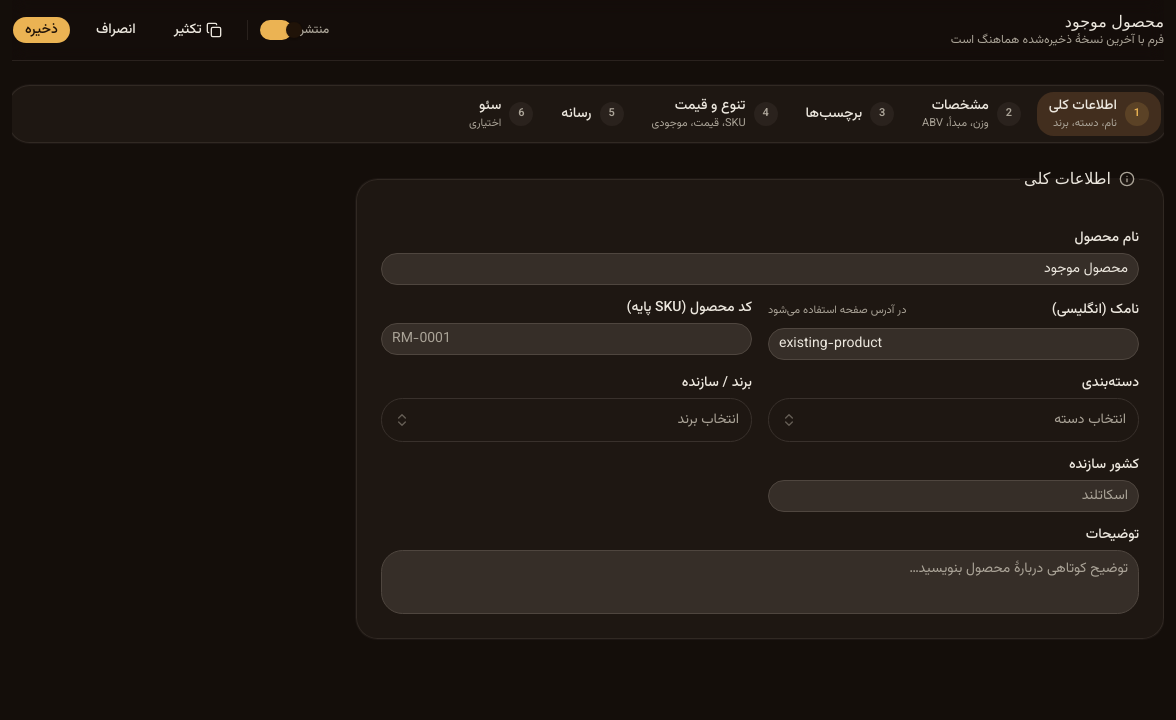
ProductForm production behavior › switches sections through the URL without warning on a dirty form
This screenshot has width=1176, height=720.
Replace the text in the field labelled "نام محصول" with "محصول ویرایش‌شده" at (760, 269), box [381,253,1139,285]
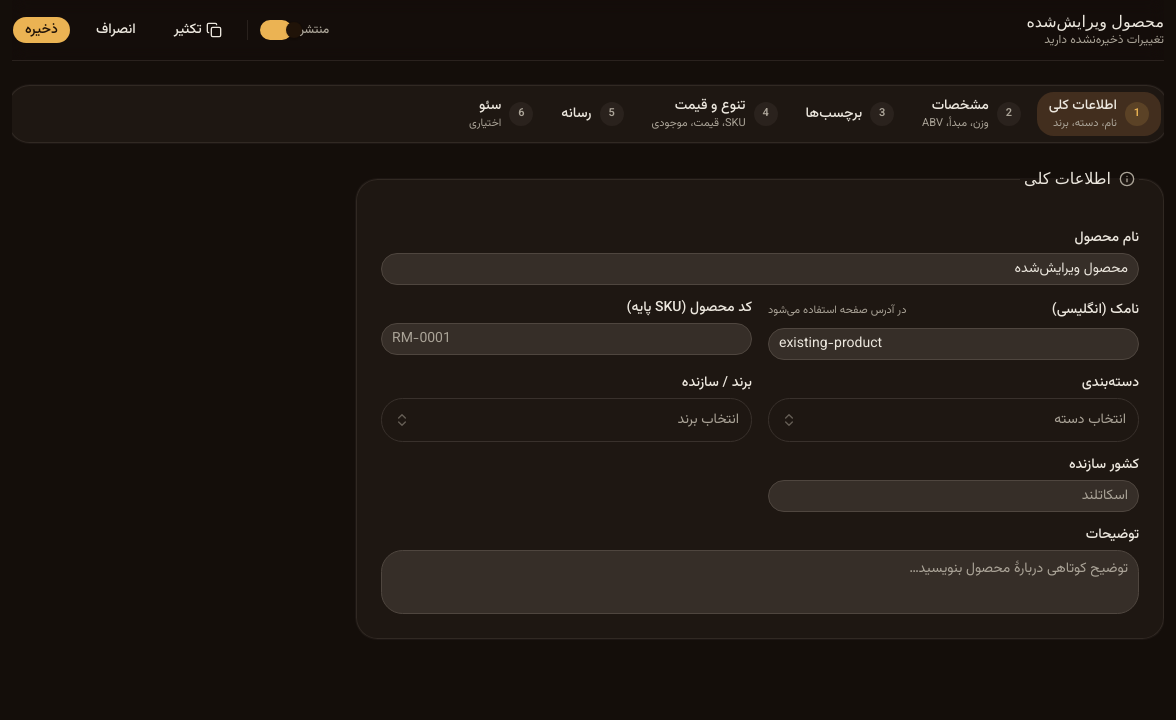
Click the link "6 سئو اختیاری" at (501, 114), box [469,95,533,132]
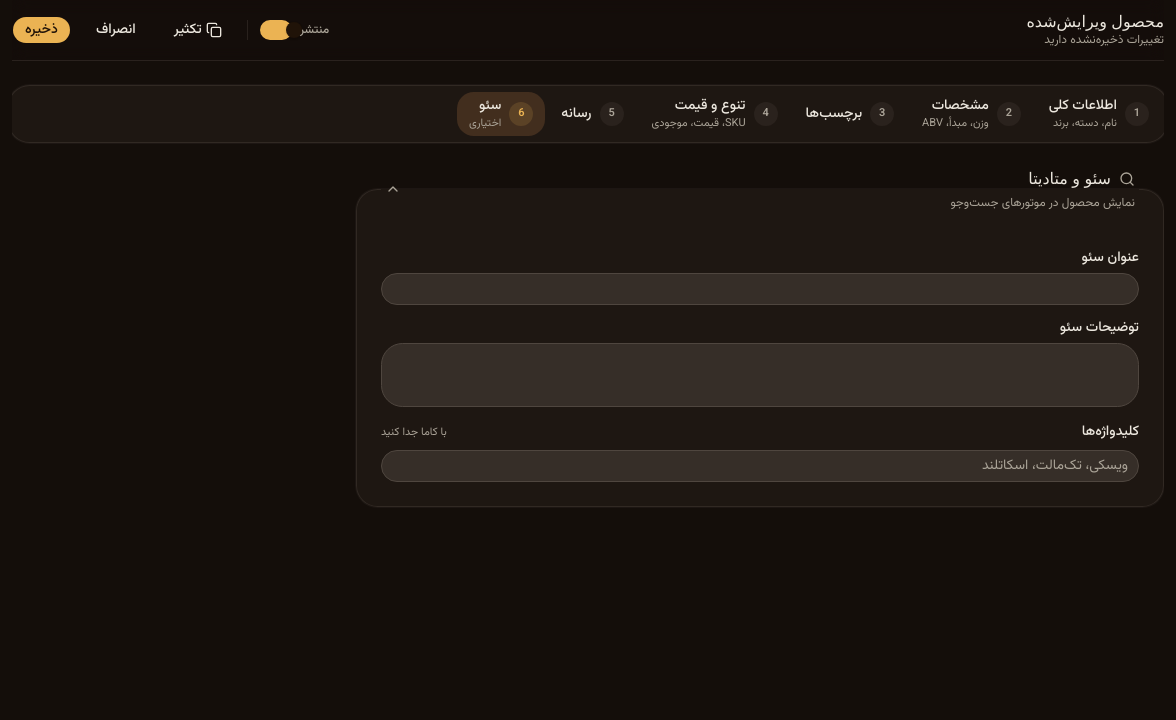
Expected: the field labelled "عنوان سئو" is shown, [381,273,1139,305]
Expected: the label labelled "نام محصول" is gone
